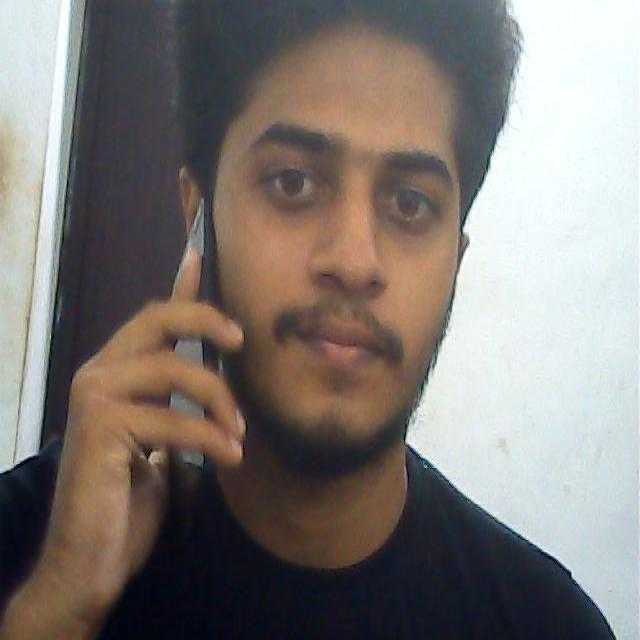phone: (154, 198, 218, 486)
